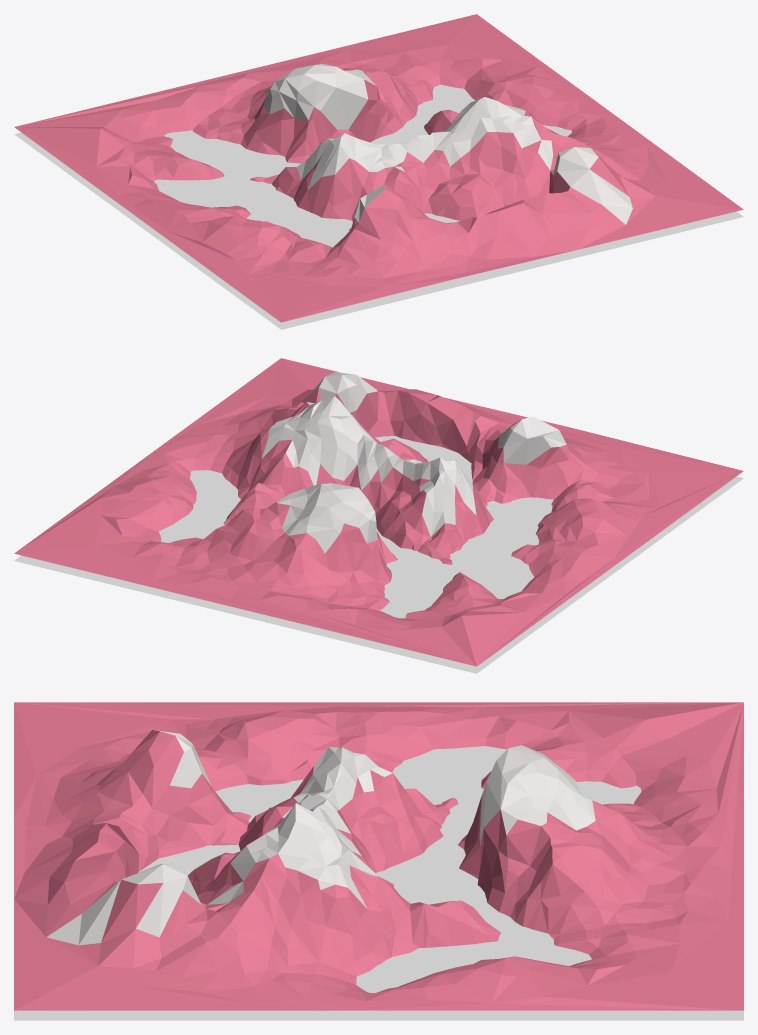
The model's file is HuiLand.fbx.
The picture shows the model from 3 angles, top to bottom: view 1: azimuth 30°, elevation 25°; view 2: azimuth 150°, elevation 25°; view 3: azimuth 270°, elevation 25°; orthographic projection. The views are drawn at different scales.
Visible parts, largest first — view 1: Landscape, Landscape_plane; view 2: Landscape, Landscape_plane; view 3: Landscape, Landscape_plane.
Part boxes in pixels (left/top/right/bottom): Landscape: left=14, top=14, right=743, bottom=322; Landscape_plane: left=14, top=84, right=743, bottom=329; Landscape: left=14, top=358, right=743, bottom=666; Landscape_plane: left=14, top=436, right=743, bottom=673; Landscape: left=14, top=702, right=743, bottom=1010; Landscape_plane: left=14, top=746, right=743, bottom=1020.
Size of the model in its own units: 200 by 41.34 by 200.
